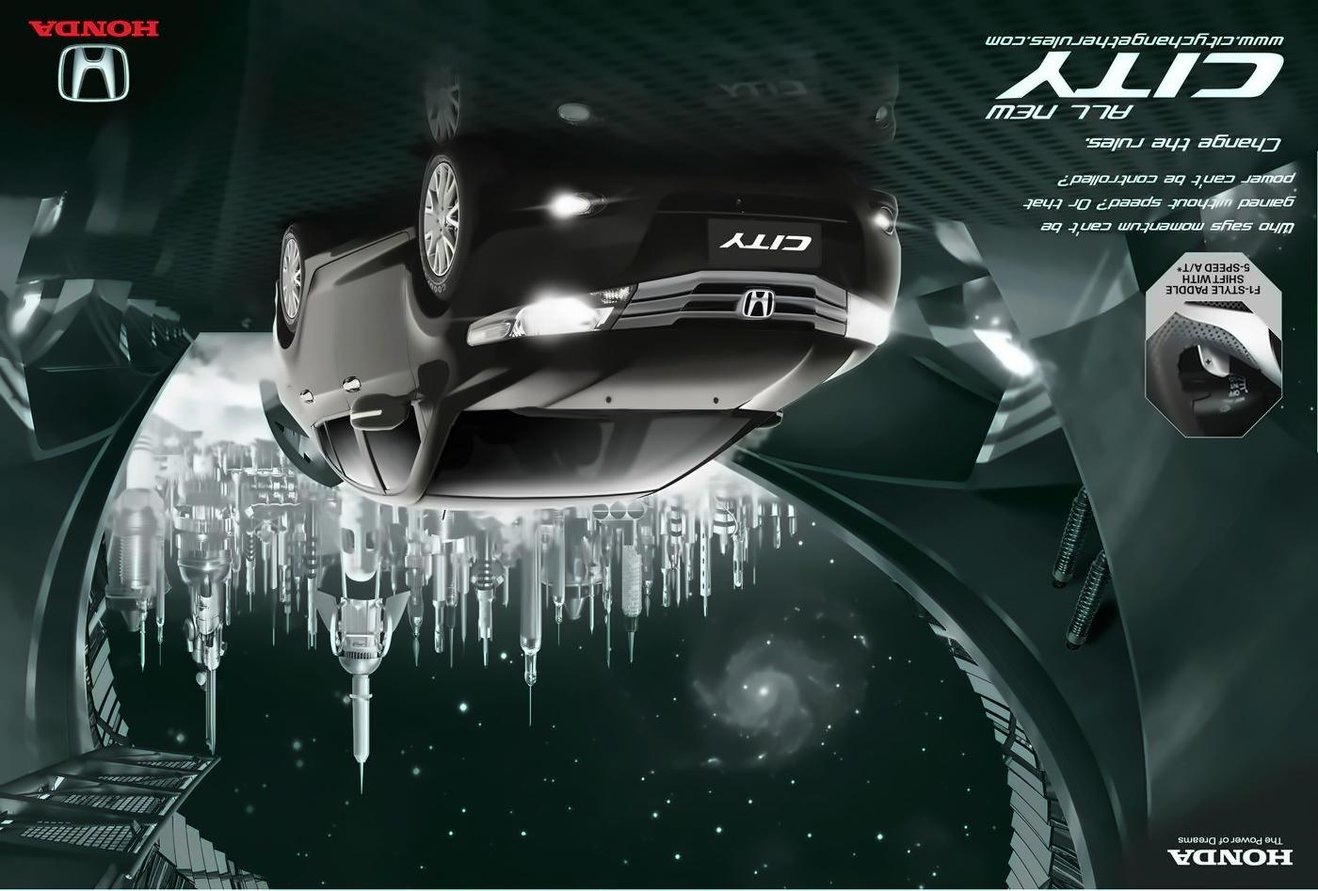Car hood: (451, 319, 884, 419)
Fender - -R-L-: (279, 253, 316, 404)
Front bumper: (448, 165, 914, 313)
Headlight - -L-: (460, 278, 643, 349)
Headlight - -R-: (834, 278, 896, 350)
Passenger-s door - -F-L-: (341, 228, 427, 507)
Passenger-s door - -R-L-: (284, 250, 361, 495)
Rear bumper: (239, 270, 291, 340)
Side bumper - -L-: (292, 214, 426, 278)
Side mirror - -L-: (343, 375, 418, 438)
Side mirror - -R-: (751, 399, 796, 438)
